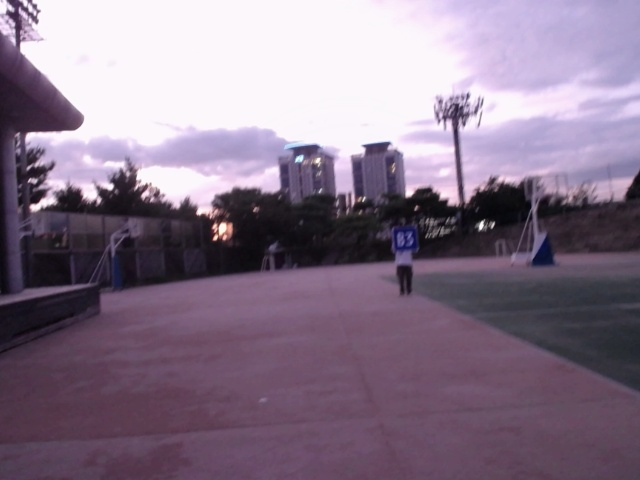delivery_b3: (391, 226, 417, 252)
